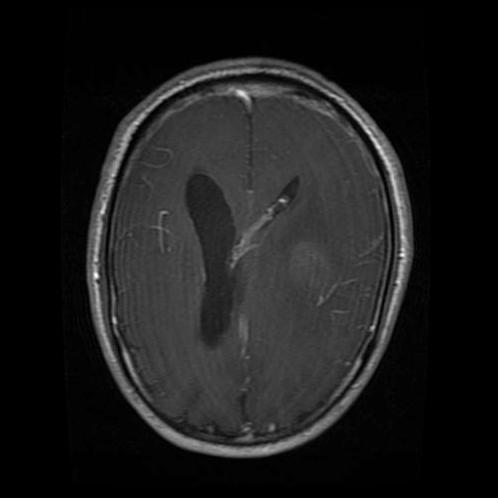Tumour-Glioma: (172, 165, 261, 352)
